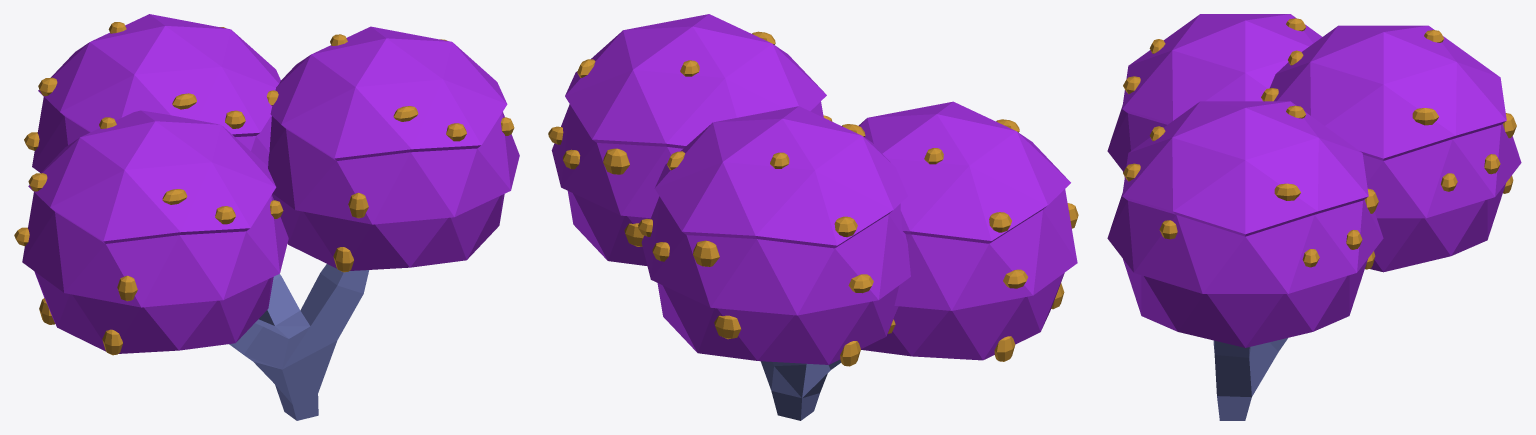
Rendered from Bush1.fbx.
3 renders of one model, left to right at view 1: azimuth 30°, elevation 25°; view 2: azimuth 150°, elevation 25°; view 3: azimuth 270°, elevation 25°, orthographic. The views are drawn at different scales.
Visible parts, largest first — view 1: Icosphere.001, Icosphere.003, Icosphere.004, Tronc; view 2: Icosphere.004, Icosphere.001, Icosphere.003, Tronc; view 3: Icosphere.003, Icosphere.004, Icosphere.001, Tronc.
Part boxes in pixels (x1=…): Icosphere.001: x1=14, y1=110, x2=288, y2=355; Icosphere.003: x1=266, y1=26, x2=519, y2=272; Icosphere.004: x1=24, y1=14, x2=280, y2=172; Tronc: x1=229, y1=264, x2=369, y2=420; Icosphere.004: x1=638, y1=106, x2=910, y2=366; Icosphere.001: x1=858, y1=101, x2=1078, y2=361; Icosphere.003: x1=548, y1=14, x2=832, y2=265; Tronc: x1=761, y1=359, x2=841, y2=420; Icosphere.003: x1=1107, y1=101, x2=1383, y2=347; Icosphere.004: x1=1261, y1=25, x2=1521, y2=272; Icosphere.001: x1=1107, y1=14, x2=1321, y2=177; Tronc: x1=1213, y1=338, x2=1287, y2=420.
Bounding box in the file's own units: 168 × 123 × 131.
